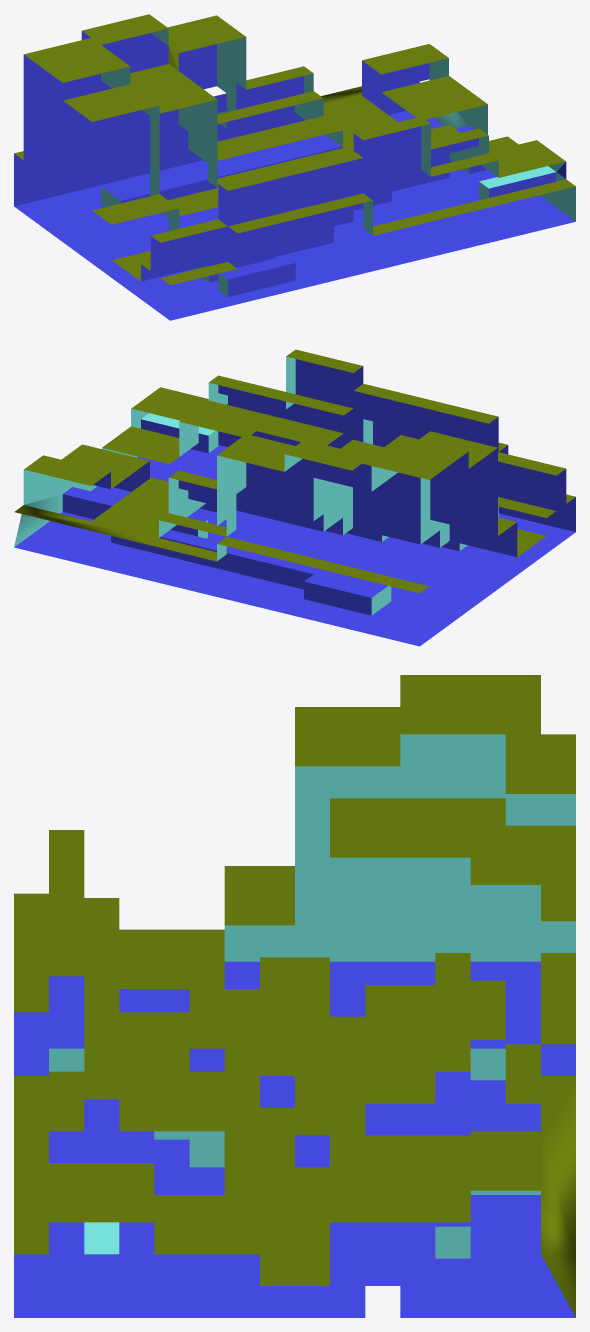
File: Containers_06x16x09_b.glb
3 renders of one model, top to bottom at view 1: azimuth 30°, elevation 25°; view 2: azimuth 150°, elevation 25°; view 3: azimuth 270°, elevation 25°, orthographic. The views are drawn at different scales.
Bounding box in the file's own units: 60 × 22.5 × 40.
